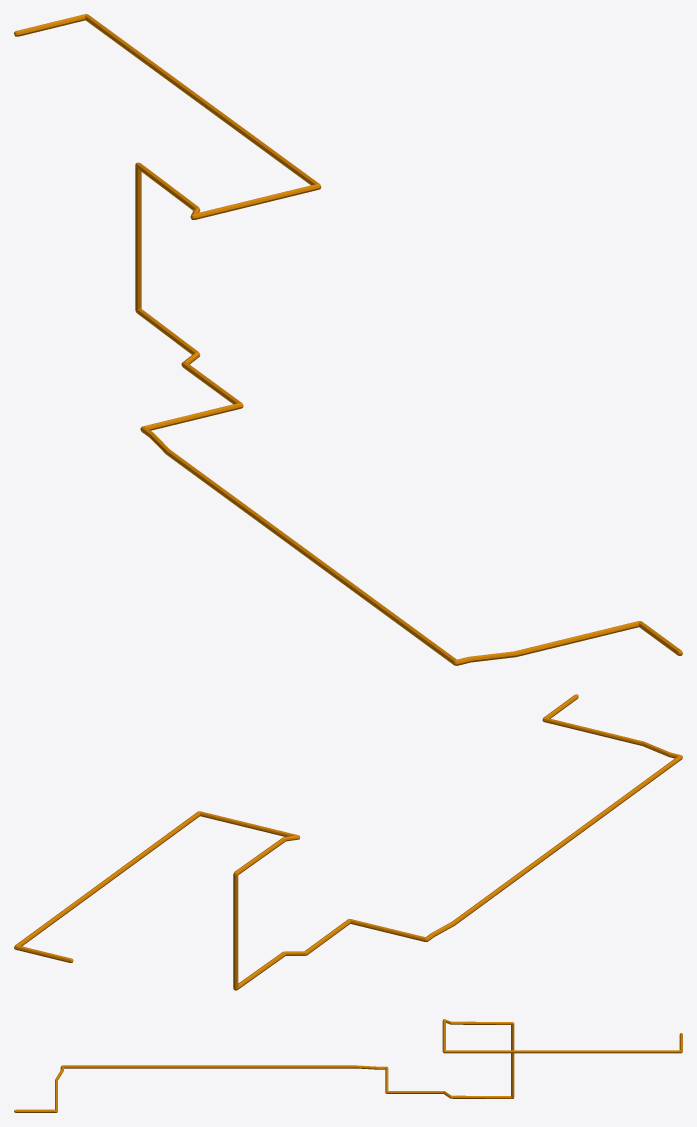
The picture shows the model from 3 angles, top to bottom: view 1: azimuth 30°, elevation 25°; view 2: azimuth 150°, elevation 25°; view 3: azimuth 270°, elevation 25°; orthographic projection. The views are drawn at different scales.
Bounding box in the file's own units: 871 × 520 × 4094.
